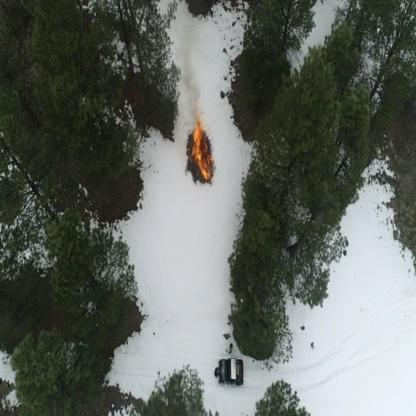Fire: (191, 118, 216, 182)
